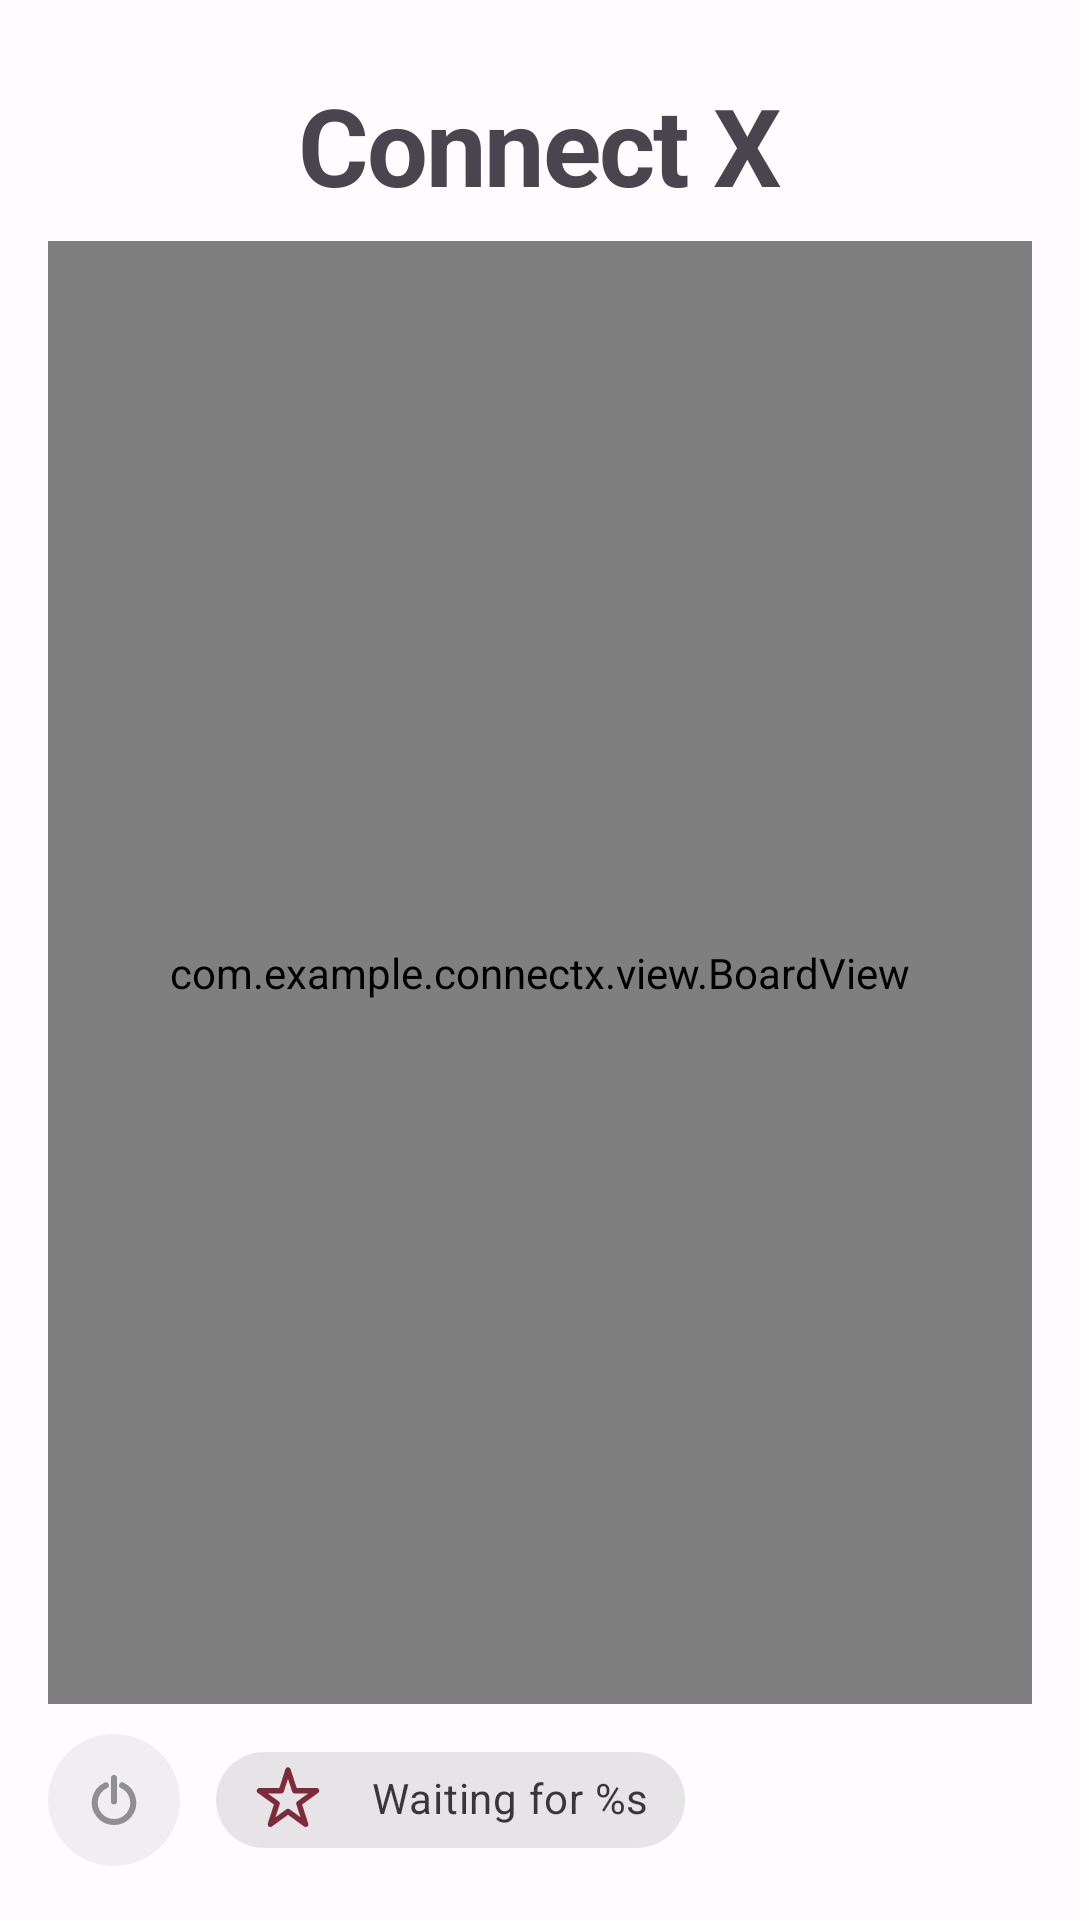

Screen size 1080x1920. Icon name, then its box in pixels as region(x1, y1, x2, y2):
power: region(48, 1734, 180, 1866)
